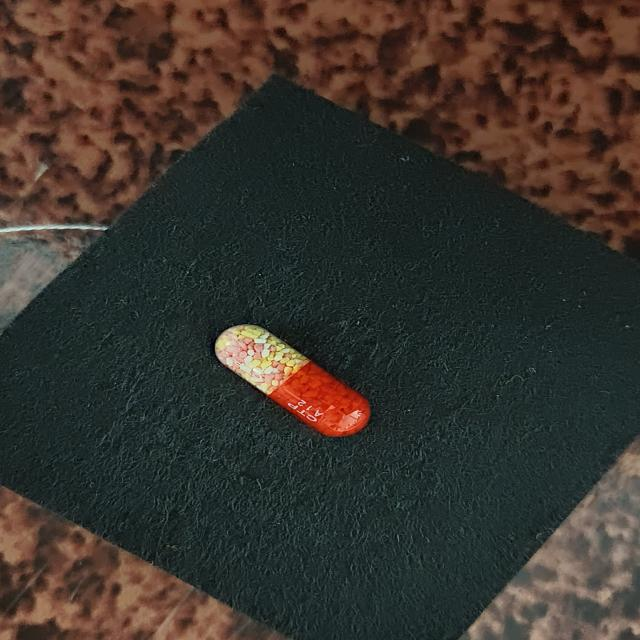Intact Capsule: (215, 324, 370, 437)
